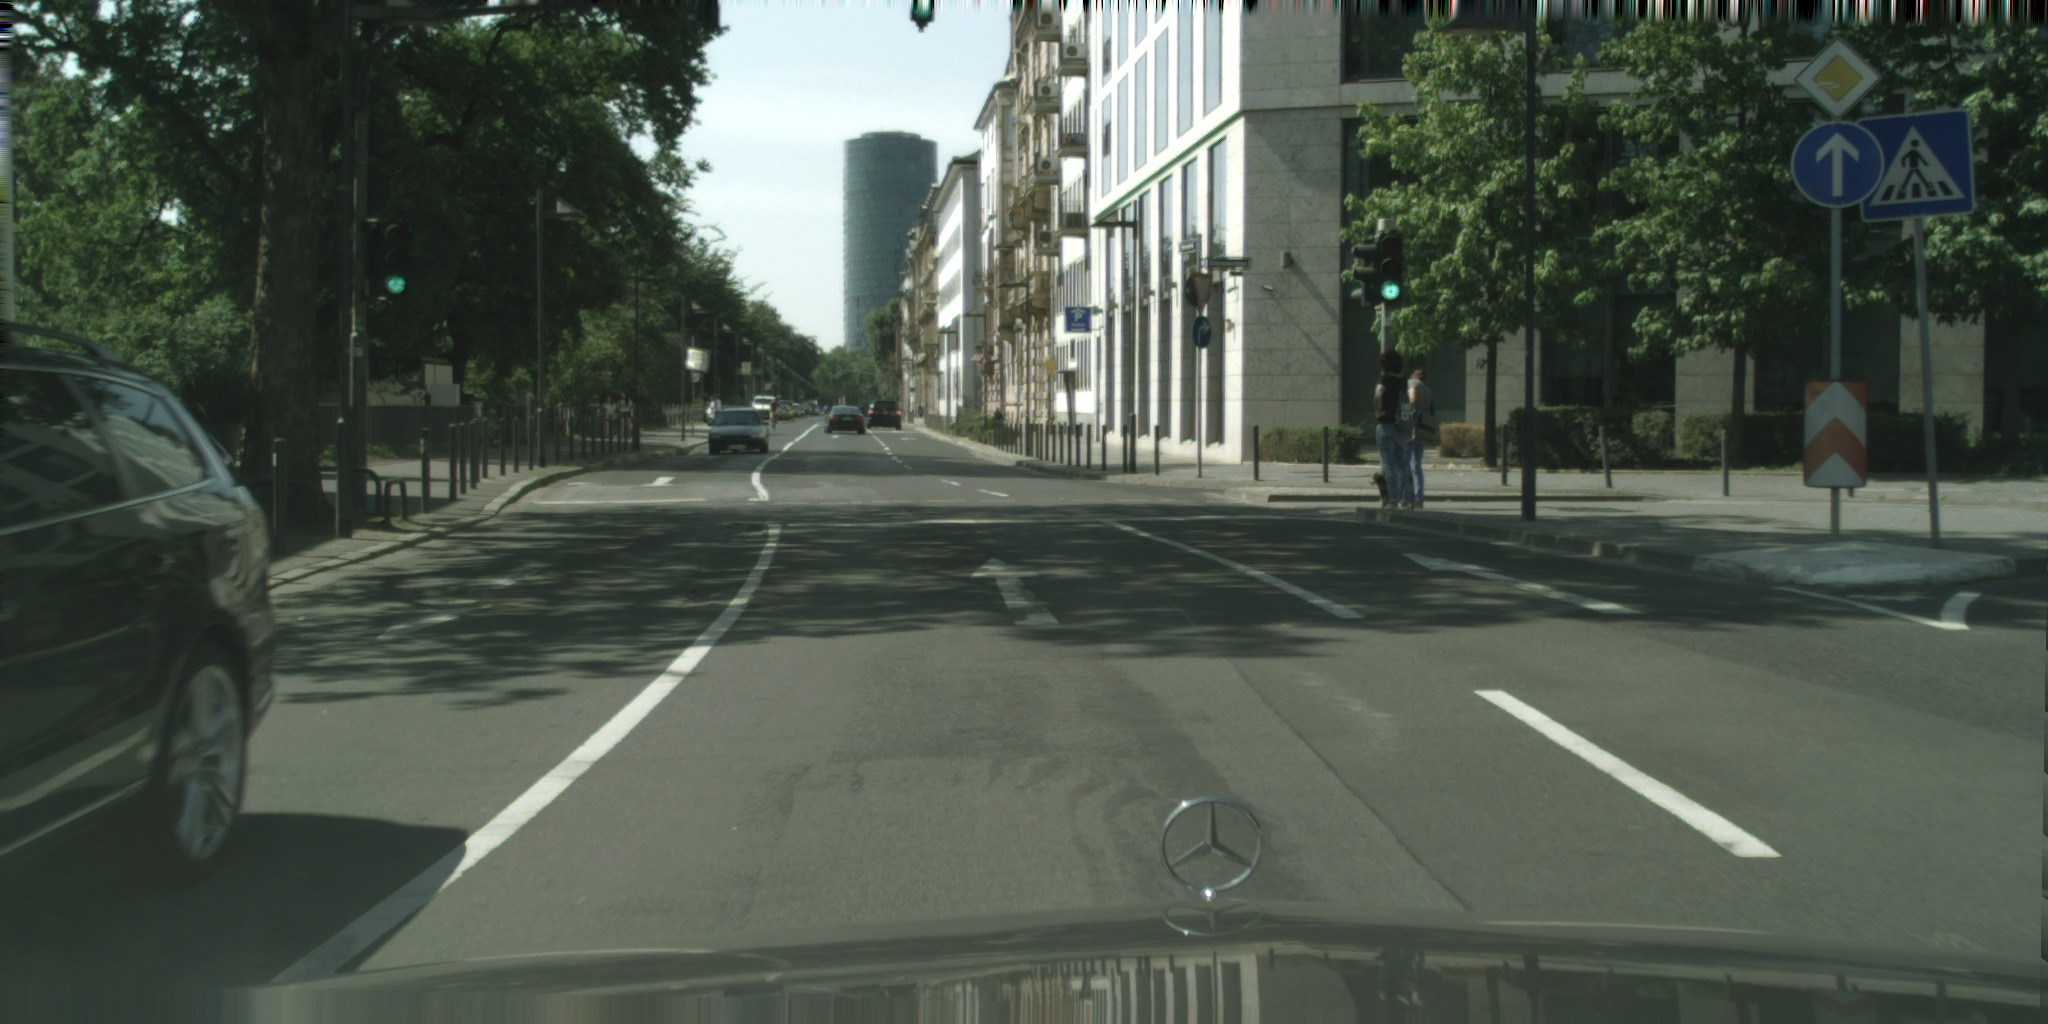bicycle: (771, 418, 778, 430)
car: (0, 318, 279, 893), (707, 405, 770, 455), (822, 403, 866, 435), (860, 398, 902, 430), (749, 394, 777, 420), (773, 399, 795, 418), (854, 400, 875, 417), (772, 405, 790, 420), (806, 399, 820, 414), (789, 402, 805, 415), (799, 401, 812, 414), (824, 405, 834, 416)
motorcycle: (705, 399, 723, 428)
person: (1373, 349, 1418, 511), (1400, 366, 1442, 510), (614, 392, 636, 441), (602, 394, 618, 441)
rider: (769, 399, 778, 427)
